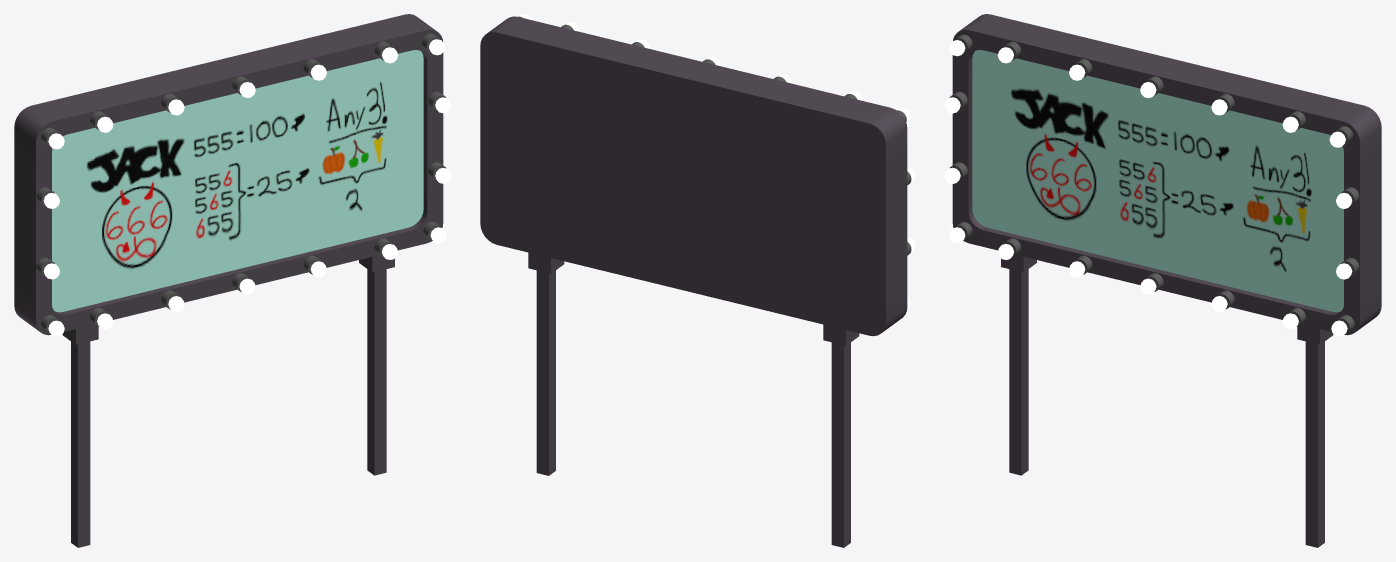
Rendered from SignThing.fbx.
3 renders of one model, left to right at view 1: azimuth 30°, elevation 25°; view 2: azimuth 150°, elevation 25°; view 3: azimuth 330°, elevation 25°, orthographic.
Visible parts, largest first — view 1: Cube; view 2: Cube; view 3: Cube.
Part boxes in pixels (left/top/right/bottom): Cube: left=14, top=14, right=451, bottom=547; Cube: left=480, top=14, right=915, bottom=547; Cube: left=944, top=14, right=1381, bottom=547.
Size of the model in its own units: 400 by 412 by 57.3.
